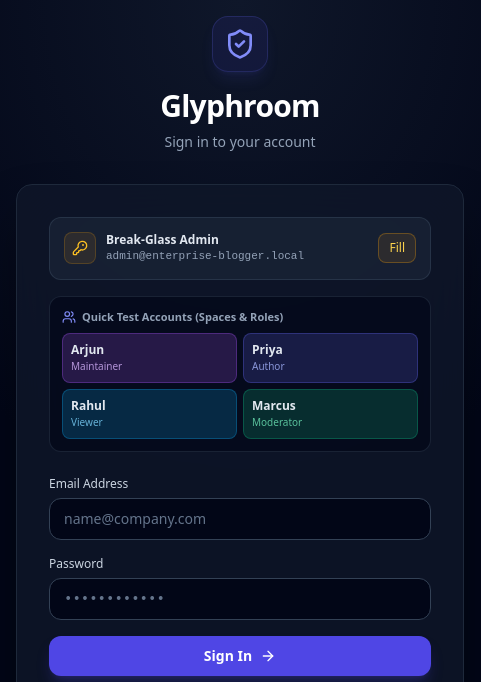
it: Milestone M1 Adversarial Web Shell & Auth Suite › SignInView Break-Glass UI & Error Resilience › handles unexpected network disconnection errors gracefully
Click the button "Fill" at (397, 248), box [378,233,416,263]
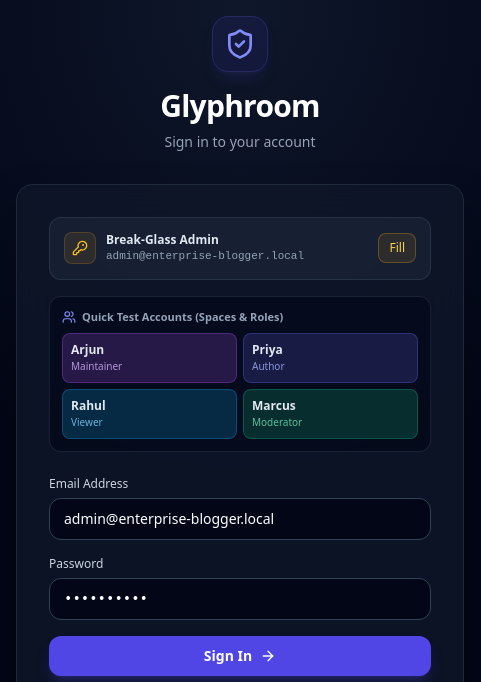
Click the button "Sign In" at (240, 656), box [49,636,431,676]
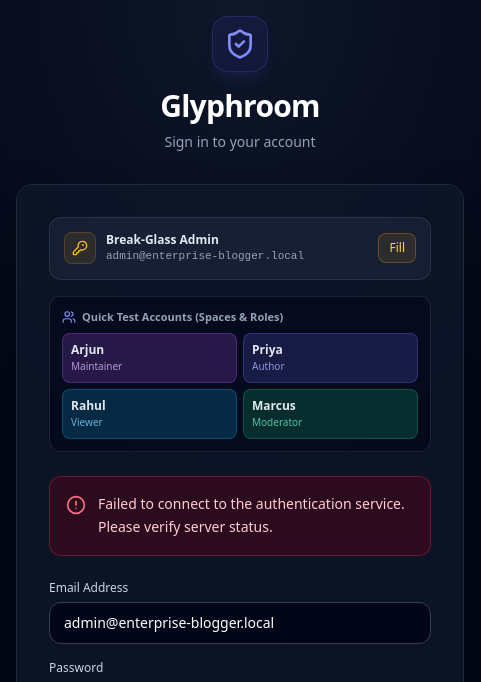
Expected: the message shows "Failed to connect to the authentication service", [98,494,405,536]
